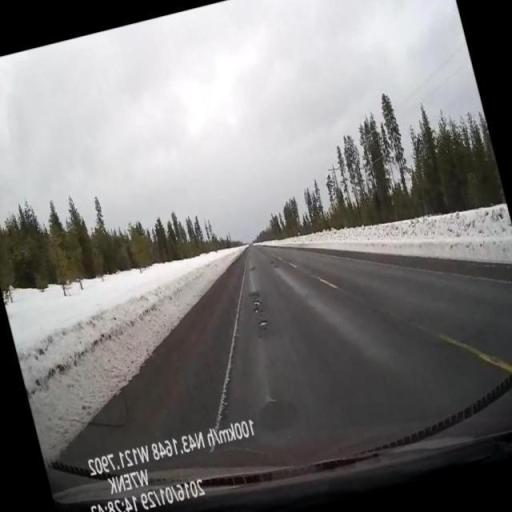pothole: (256, 320, 266, 326), (253, 300, 261, 305), (253, 307, 258, 313)
